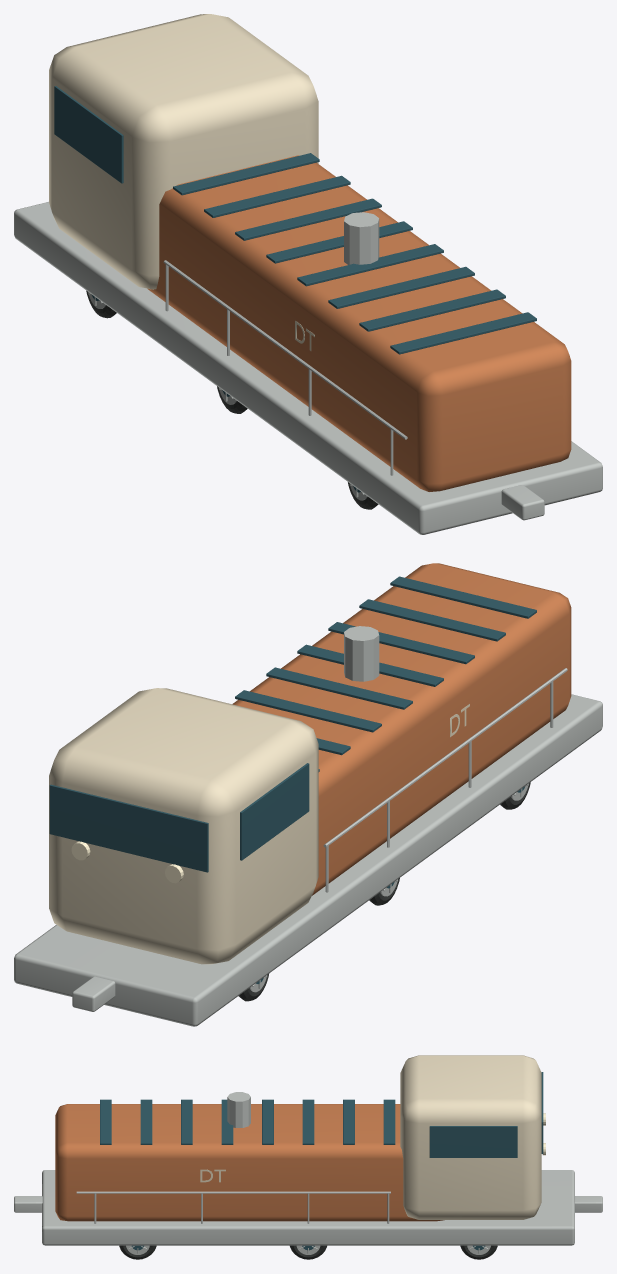
The model's file is train_detail.glb.
The picture shows the model from 3 angles, top to bottom: view 1: azimuth 30°, elevation 25°; view 2: azimuth 150°, elevation 25°; view 3: azimuth 270°, elevation 25°; orthographic projection. The views are drawn at different scales.
Visible parts, largest first — view 1: Long engine hood, TrainModel traffic_cream, TrainModel traffic_metal, TrainModel traffic_glass; view 2: TrainModel traffic_cream, Long engine hood, TrainModel traffic_metal, TrainModel traffic_glass; view 3: Long engine hood, TrainModel traffic_cream, TrainModel traffic_metal, TrainModel traffic_glass.
Boxes of the visible parts, x1,y1,x2,y2 form: Long engine hood: (147,155,571,491); TrainModel traffic_cream: (49,14,318,350); TrainModel traffic_metal: (14,202,602,534); TrainModel traffic_glass: (54,86,536,354); TrainModel traffic_cream: (49,688,469,964); Long engine hood: (232,563,571,895); TrainModel traffic_metal: (14,626,602,1026); TrainModel traffic_glass: (49,576,536,872); Long engine hood: (55,1104,444,1221); TrainModel traffic_cream: (200,1055,541,1219); TrainModel traffic_metal: (14,1092,602,1245); TrainModel traffic_glass: (100,1072,543,1157).
Size of the model in its own units: 2.64 by 3.26 by 10.99.
